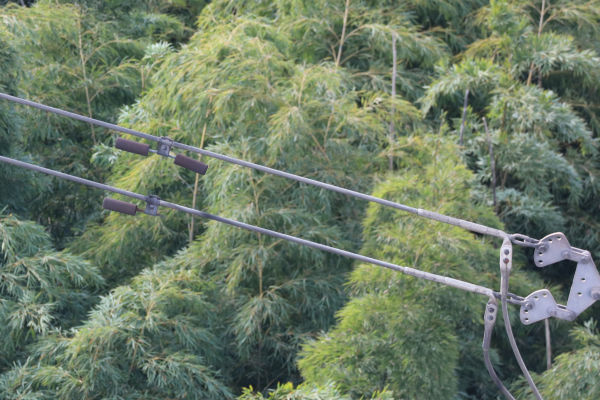damper: (112, 130, 211, 177)
damper_defect: (101, 192, 170, 222)
